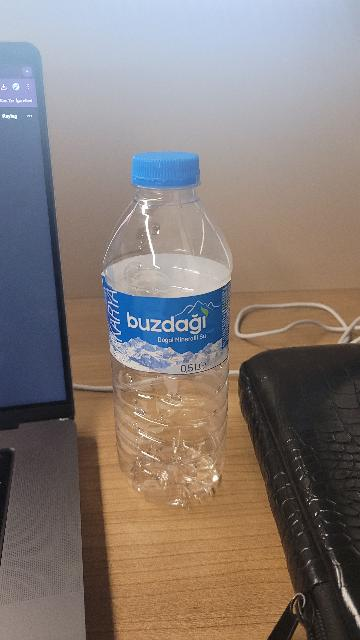Plastik: (94, 123, 235, 509), (121, 150, 211, 200)
